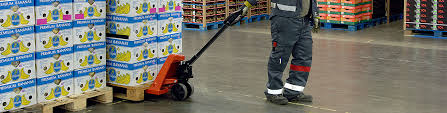Pallet Jack: (114, 7, 251, 105)
